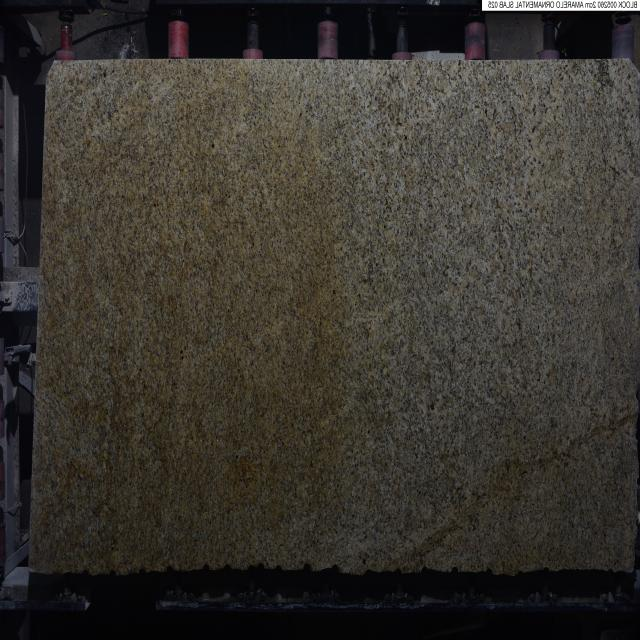chapa: (30, 60, 640, 574)
